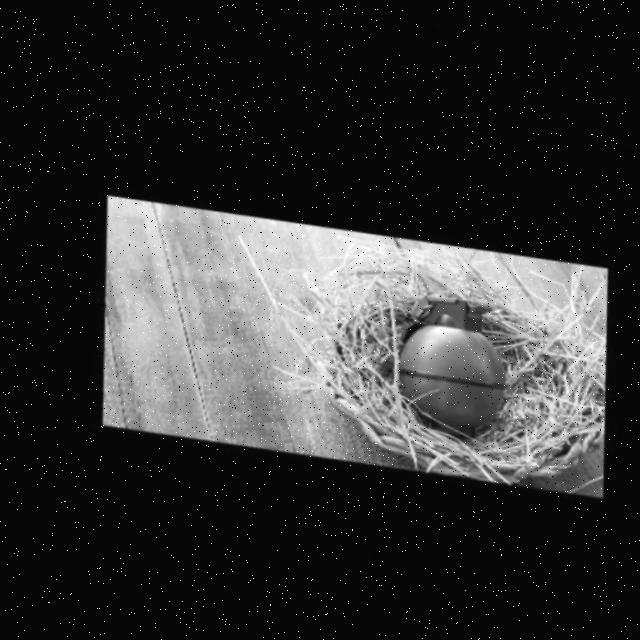grenade: (376, 269, 538, 448)
